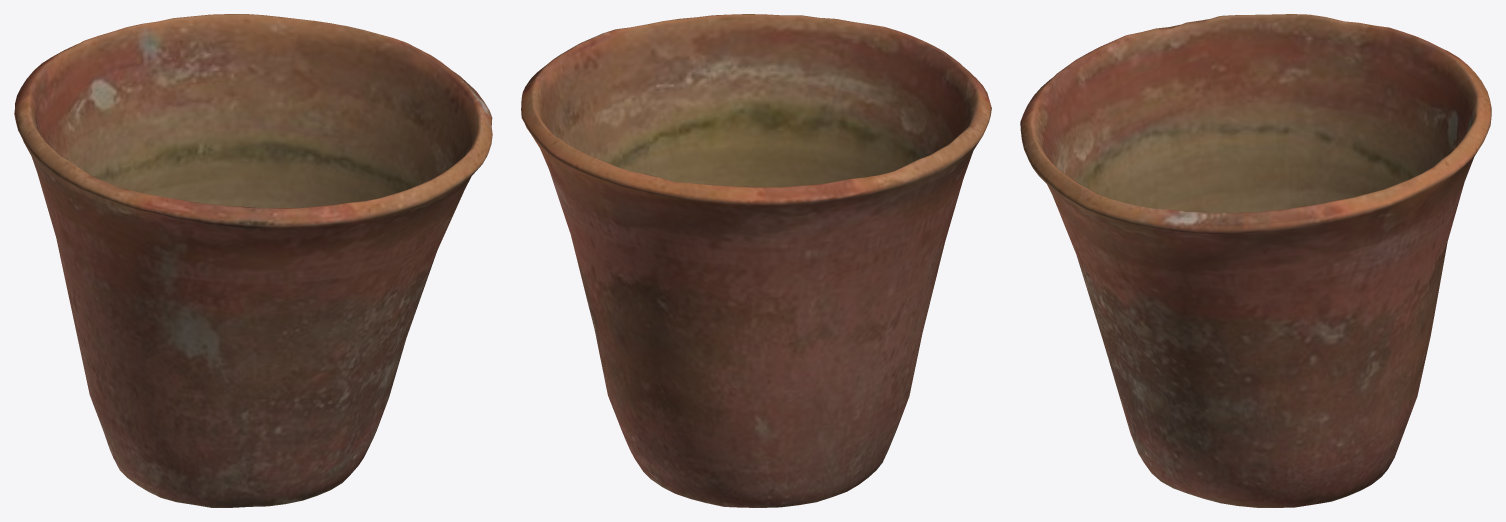
File: planter_pot_clay.glb
3 renders of one model, left to right at view 1: azimuth 30°, elevation 25°; view 2: azimuth 150°, elevation 25°; view 3: azimuth 270°, elevation 25°, orthographic.
Parts seen in each view (by area): view 1: planter_pot_clay; view 2: planter_pot_clay; view 3: planter_pot_clay.
Part boxes in pixels (x1,y1,x2,y2): planter_pot_clay: [14, 14, 492, 507]; planter_pot_clay: [521, 14, 991, 507]; planter_pot_clay: [1020, 14, 1491, 507].
Bounding box in the file's own units: 0.266 × 0.2219 × 0.2635.
Materials: 1 (1 with a texture image).
